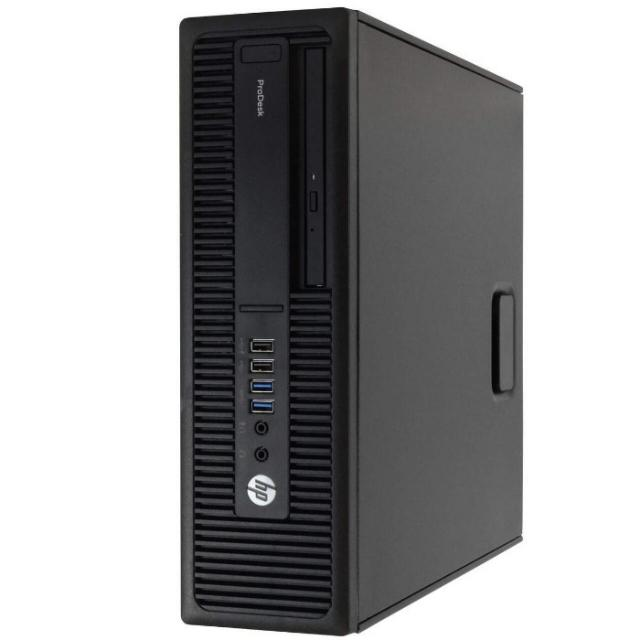Desktop-PC: (174, 8, 538, 632)
